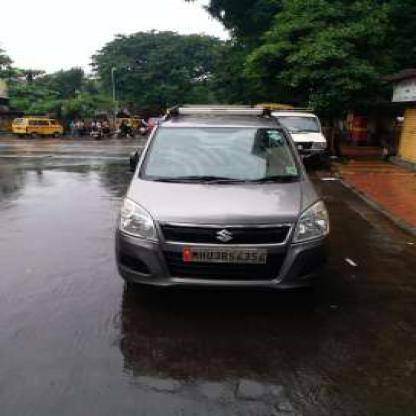license: (180, 244, 270, 266)
